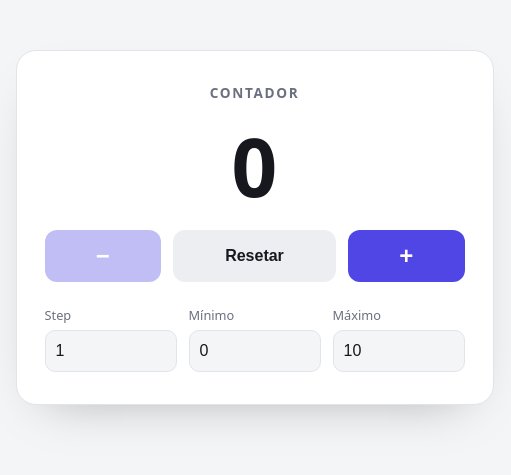
Test case: Counter › decrements by step without going below min
The image size is (511, 475).
Clear the number field labelled "Mínimo" at (254, 350), box [188, 330, 320, 372]
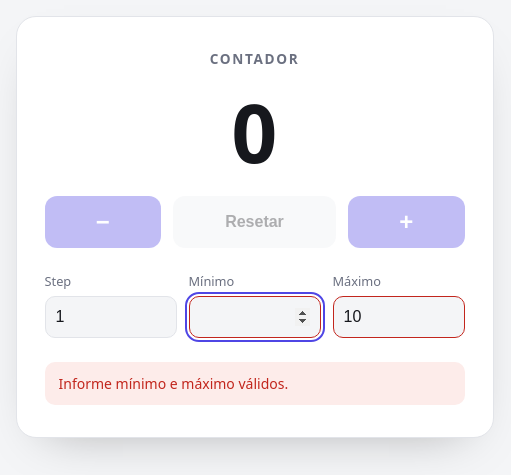
Type "-5" into the number field labelled "Mínimo".
click(254, 317); type("-5")  # box [188, 296, 320, 338]
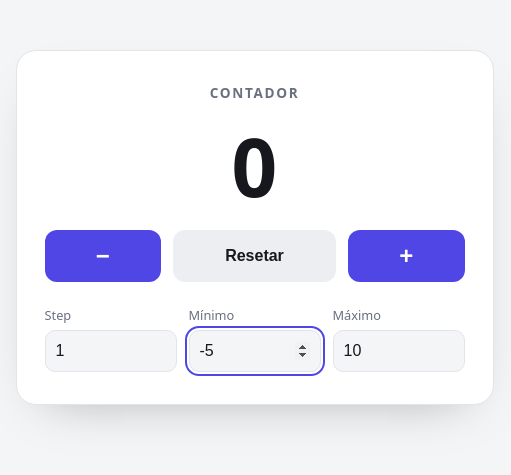
Clear the number field labelled "Step" at (110, 350), box [44, 330, 176, 372]
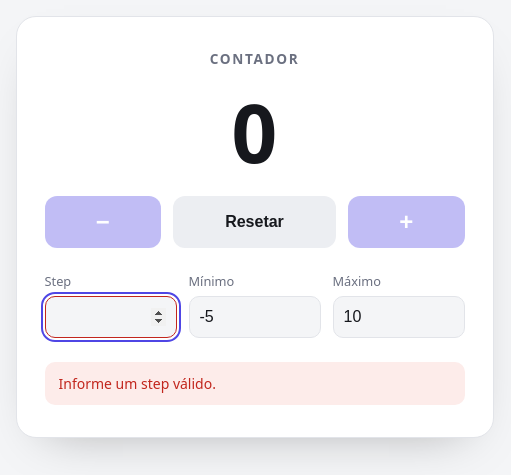
Type "3" into the number field labelled "Step".
click(110, 317); type("3")  # box [44, 296, 176, 338]
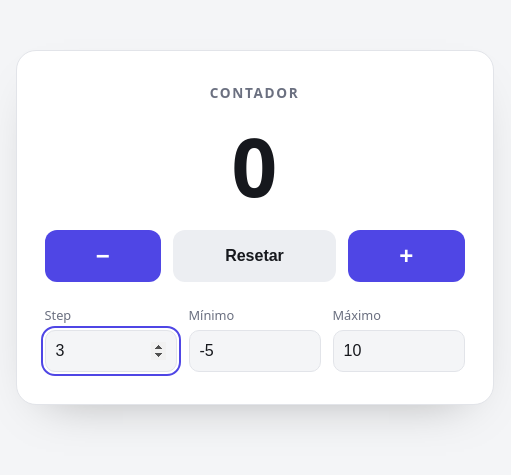
Click the button named "Decrementar".
click(103, 256)  # box [44, 230, 161, 282]
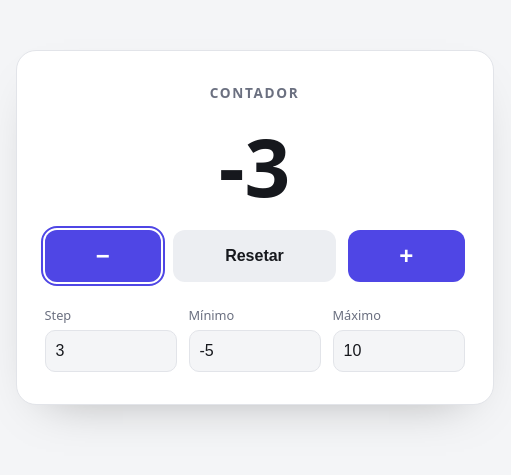
Check: the text named "Valor atual" reads "-3", box [219, 110, 290, 220]
Click the button named "Decrementar".
click(103, 256)  # box [44, 230, 161, 282]
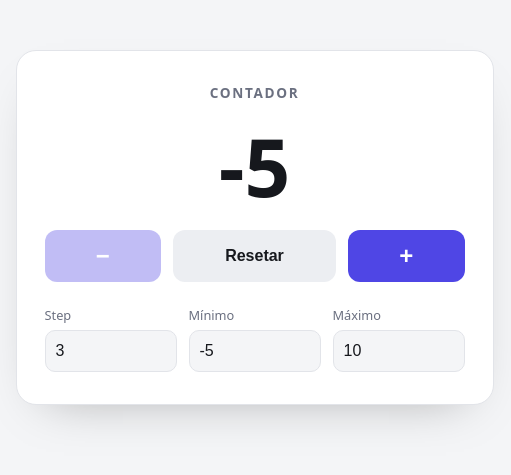
Check: the text named "Valor atual" reads "-5", box [219, 110, 290, 220]
Check: the button named "Decrementar" is disabled, box [44, 230, 161, 282]
